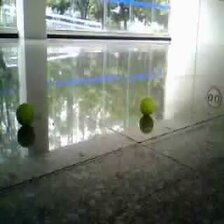tennis: (16, 103, 34, 123), (139, 96, 156, 115)
